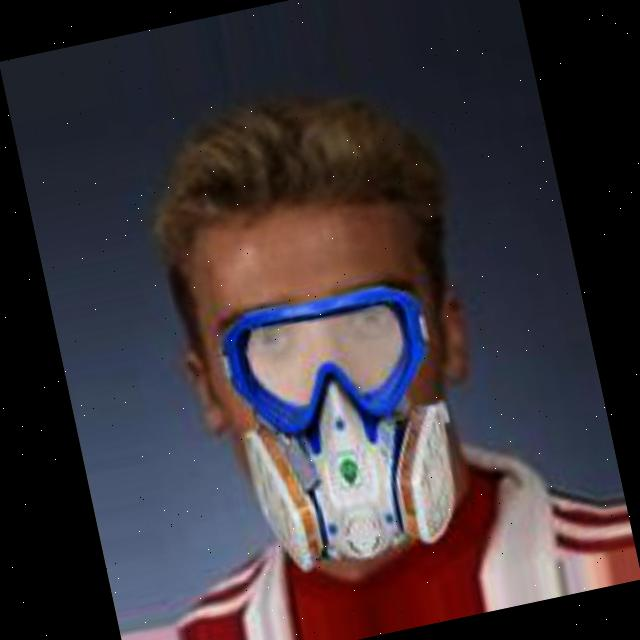suspicion: (115, 60, 512, 577)
